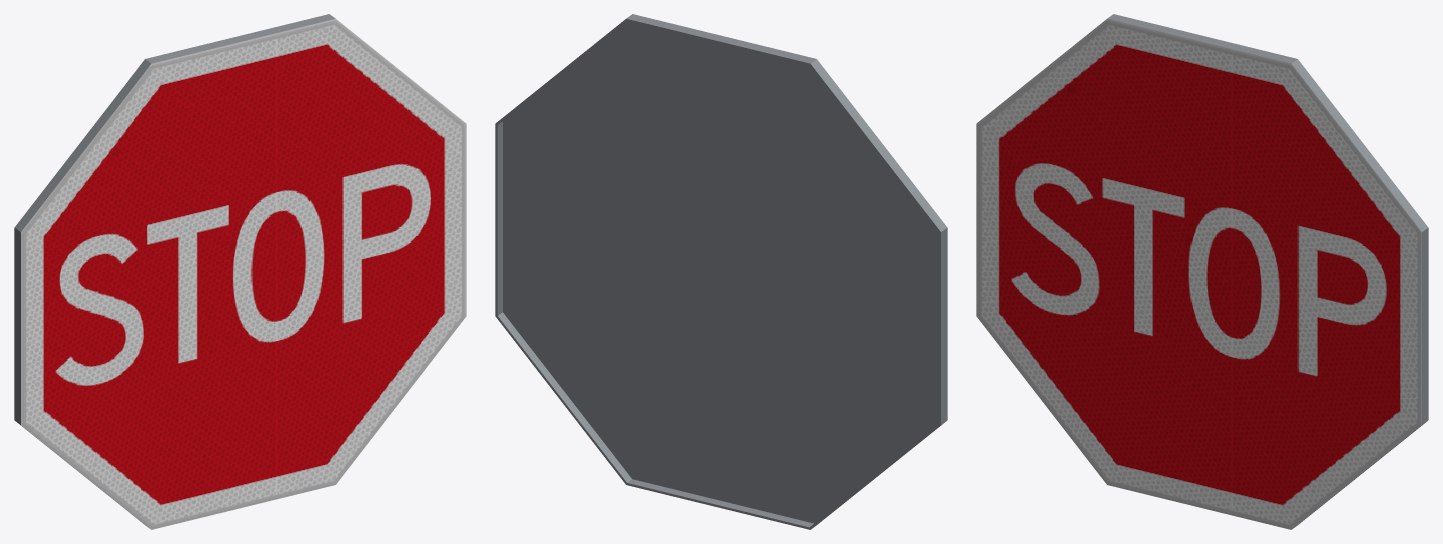
The picture shows the model from 3 angles, left to right: view 1: azimuth 30°, elevation 25°; view 2: azimuth 150°, elevation 25°; view 3: azimuth 330°, elevation 25°; orthographic projection.
Visible parts, largest first — view 1: cat_22127c648dbd8113; view 2: cat_22127c648dbd8113; view 3: cat_22127c648dbd8113.
Boxes of the visible parts, bbox=[...] form: cat_22127c648dbd8113: bbox=[14, 14, 466, 529]; cat_22127c648dbd8113: bbox=[495, 14, 947, 529]; cat_22127c648dbd8113: bbox=[976, 14, 1428, 529].
Size of the model in its own units: 0.6 by 0.015 by 0.6.
Materials: 2 (1 with a texture image).
